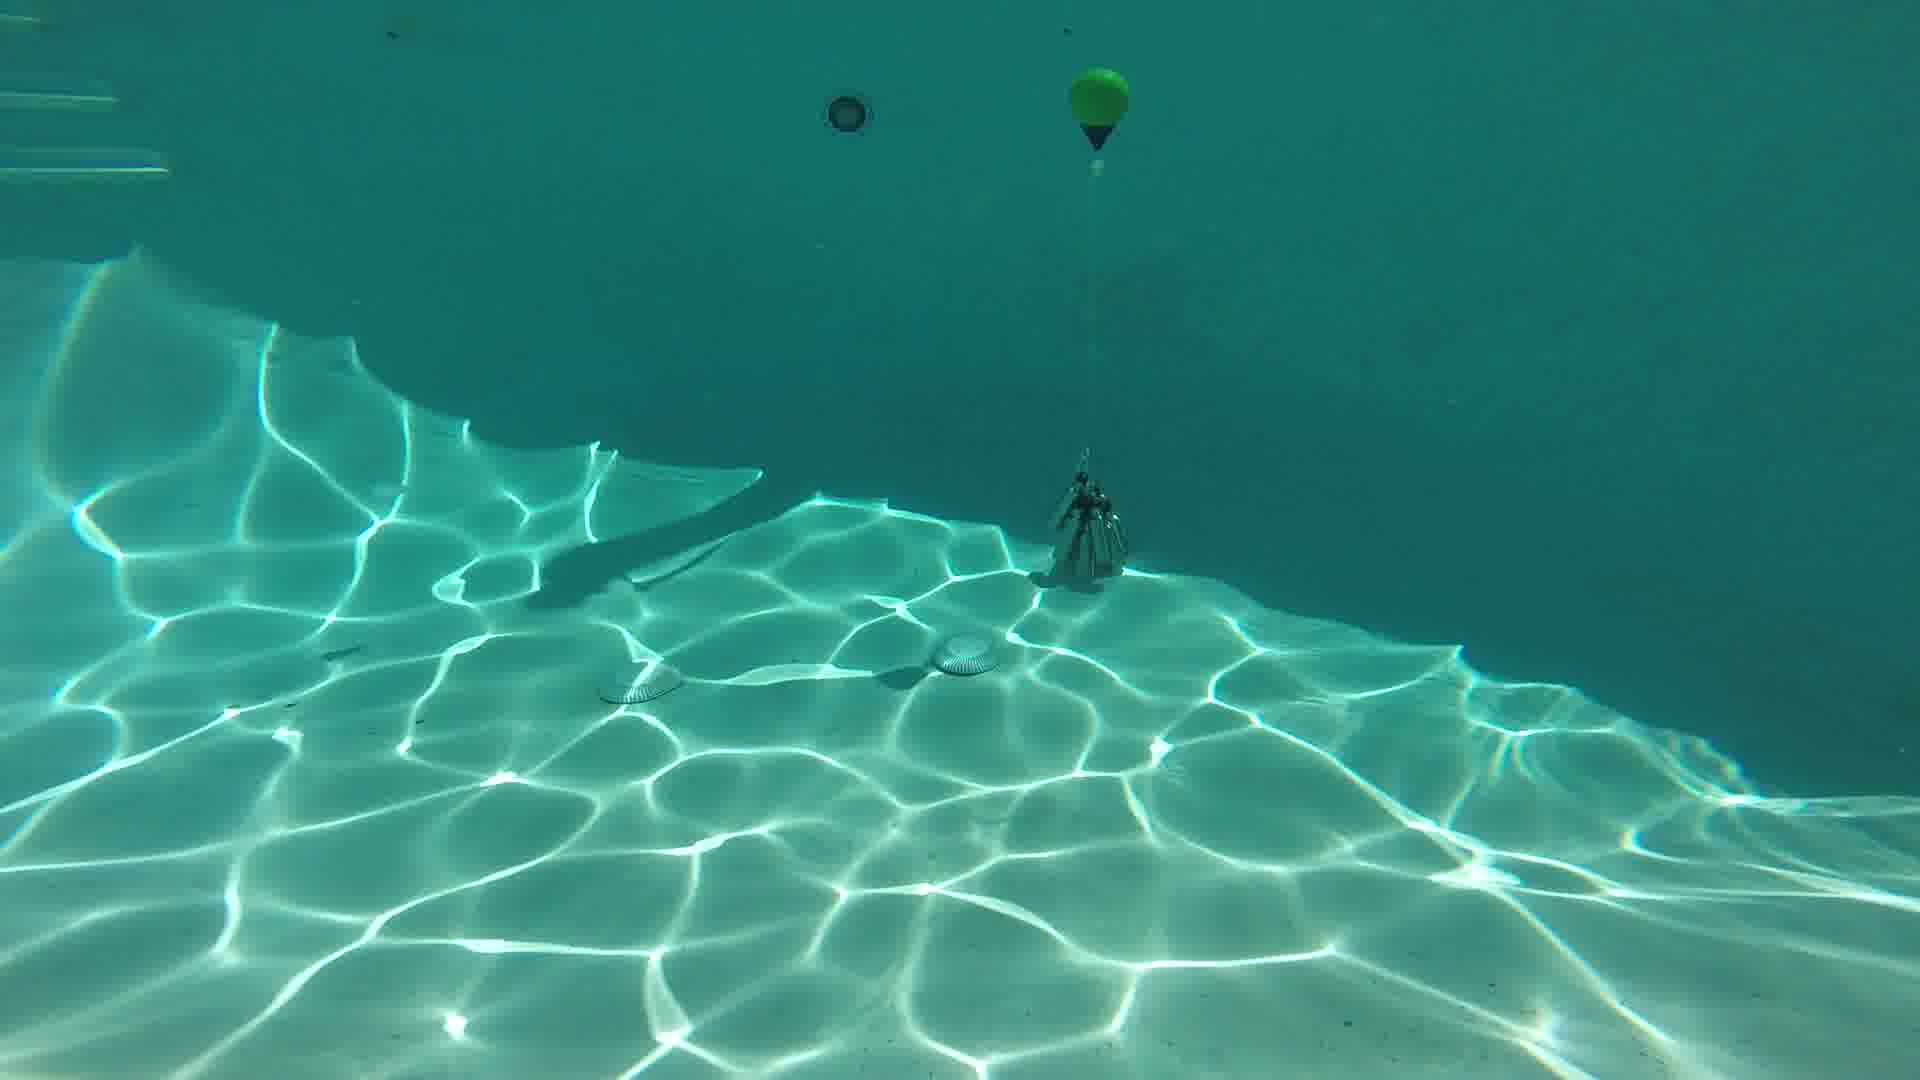yellow_buoy: (1069, 70, 1127, 152)
